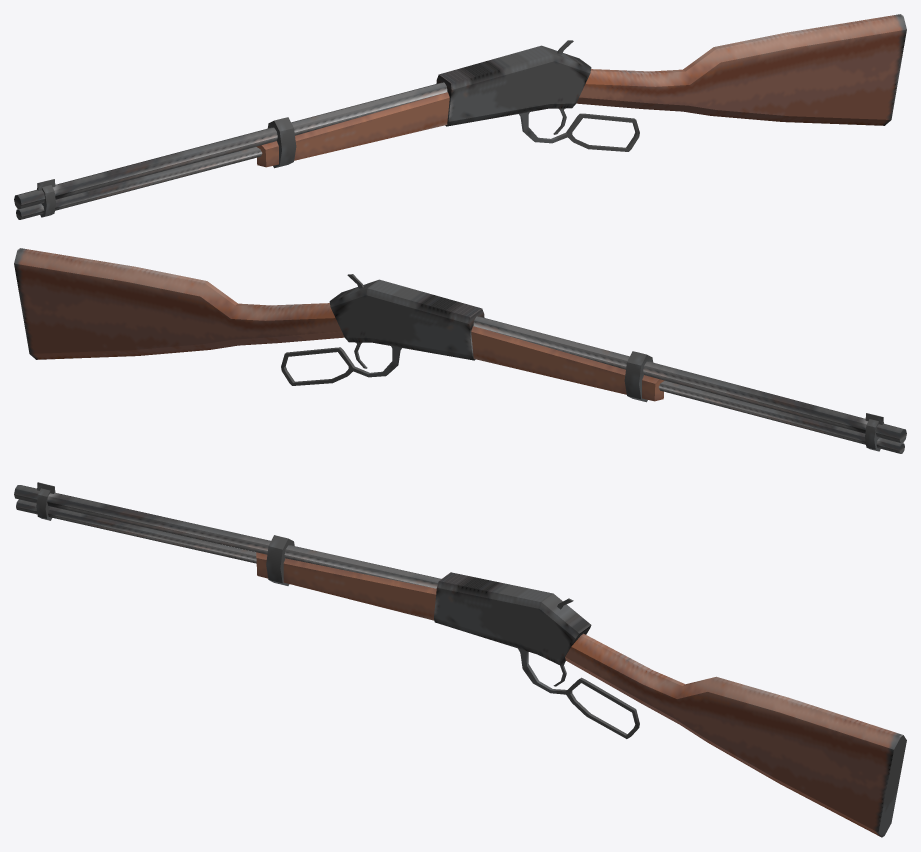
The model's file is Rifle.fbx.
3 renders of one model, top to bottom at view 1: azimuth 30°, elevation 25°; view 2: azimuth 150°, elevation 25°; view 3: azimuth 330°, elevation 25°, orthographic.
Parts seen in each view (by area): view 1: Cube.001, Cube.003; view 2: Cube.001, Cube.003; view 3: Cube.001, Cube.003.
Part boxes in pixels (bbox=[...]): Cube.001: bbox=[14, 14, 906, 219]; Cube.003: bbox=[519, 112, 639, 151]; Cube.001: bbox=[14, 248, 906, 453]; Cube.003: bbox=[281, 346, 401, 385]; Cube.001: bbox=[14, 482, 906, 837]; Cube.003: bbox=[518, 648, 639, 738].
Size of the model in its own units: 615 by 107 by 19.18.
